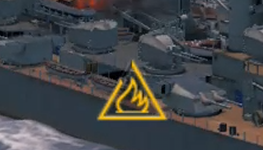1fire: (94, 92, 167, 122)
